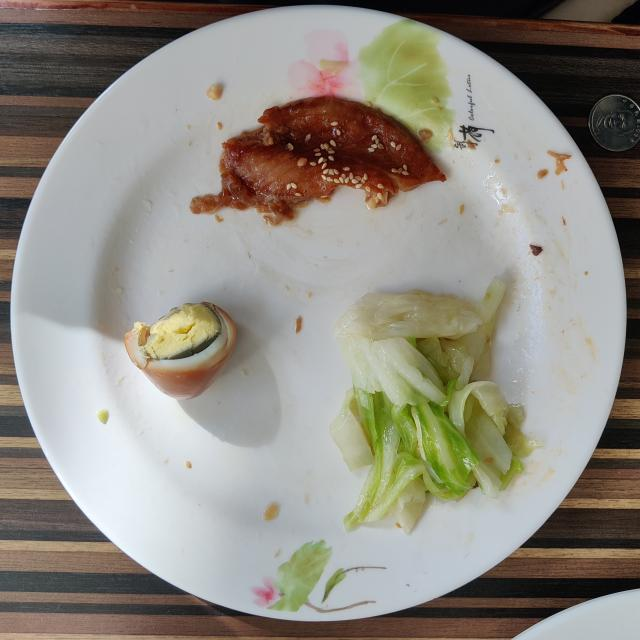Kabayaki sea bream fillet: (190, 96, 445, 225)
cabbage: (330, 278, 541, 532)
coin: (589, 95, 640, 151)
soy egg: (125, 302, 236, 400)
